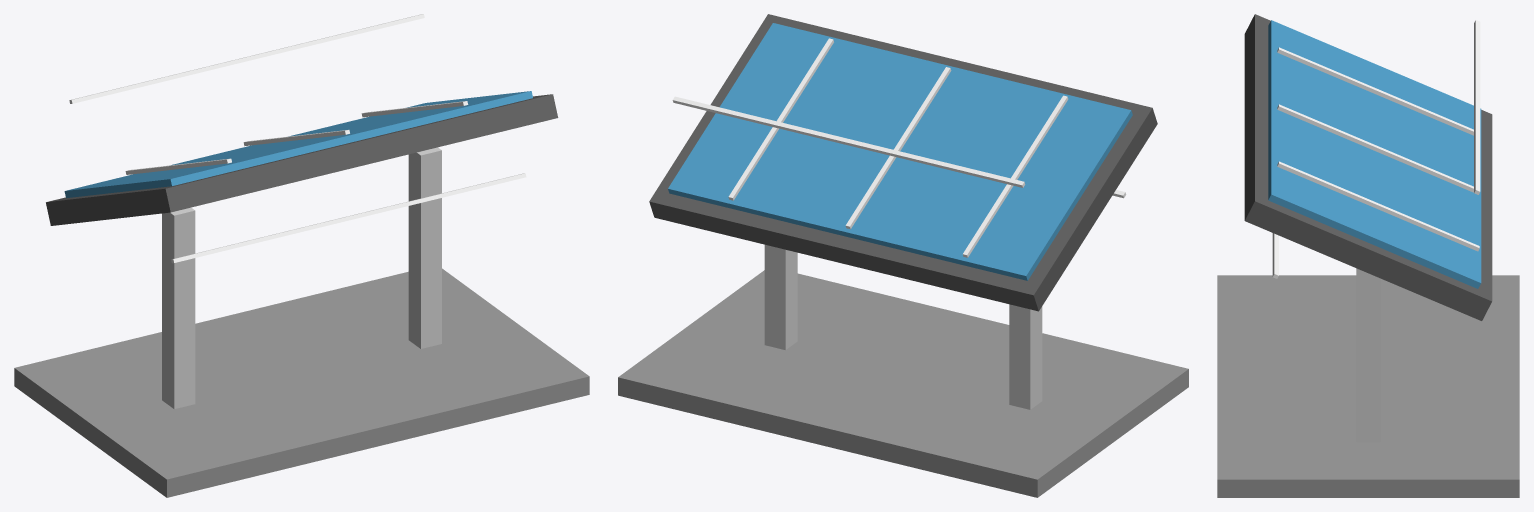
The model's file is lab-b4.glb.
3 views of the same model, side by side, from view 1: azimuth 30°, elevation 25°; view 2: azimuth 150°, elevation 25°; view 3: azimuth 270°, elevation 25° (orthographic).
Visible parts, largest first — view 1: B4_box_1, B4_box_4, B4_box_5, B4_box_2, B4_box_3, B4_box_10, B4_box_9; view 2: B4_box_1, B4_box_5, B4_box_4, B4_box_2, B4_box_3, B4_box_10, B4_box_7, B4_box_6, B4_box_8; view 3: B4_box_1, B4_box_5, B4_box_4, B4_box_3, B4_box_8, B4_box_6, B4_box_7, B4_box_10.
Part boxes in pixels (bbox=[...]): B4_box_1: bbox=[14, 268, 589, 497]; B4_box_4: bbox=[46, 94, 558, 225]; B4_box_5: bbox=[64, 91, 532, 198]; B4_box_2: bbox=[162, 207, 195, 409]; B4_box_3: bbox=[408, 147, 441, 348]; B4_box_10: bbox=[69, 14, 424, 103]; B4_box_9: bbox=[171, 173, 526, 263]; B4_box_1: bbox=[618, 270, 1188, 497]; B4_box_5: bbox=[668, 23, 1132, 280]; B4_box_4: bbox=[649, 14, 1157, 311]; B4_box_2: bbox=[1009, 304, 1042, 409]; B4_box_3: bbox=[764, 244, 797, 349]; B4_box_10: bbox=[672, 96, 1025, 187]; B4_box_7: bbox=[845, 67, 951, 229]; B4_box_6: bbox=[962, 95, 1068, 257]; B4_box_8: bbox=[728, 38, 833, 200]; B4_box_1: bbox=[1217, 275, 1519, 497]; B4_box_5: bbox=[1268, 20, 1481, 288]; B4_box_4: bbox=[1244, 14, 1492, 320]; B4_box_3: bbox=[1356, 268, 1380, 442]; B4_box_8: bbox=[1277, 161, 1479, 251]; B4_box_6: bbox=[1277, 47, 1473, 135]; B4_box_7: bbox=[1277, 104, 1473, 192]; B4_box_10: bbox=[1474, 20, 1480, 194].
Size of the model in its own units: 0.72 by 0.4783 by 0.45.
